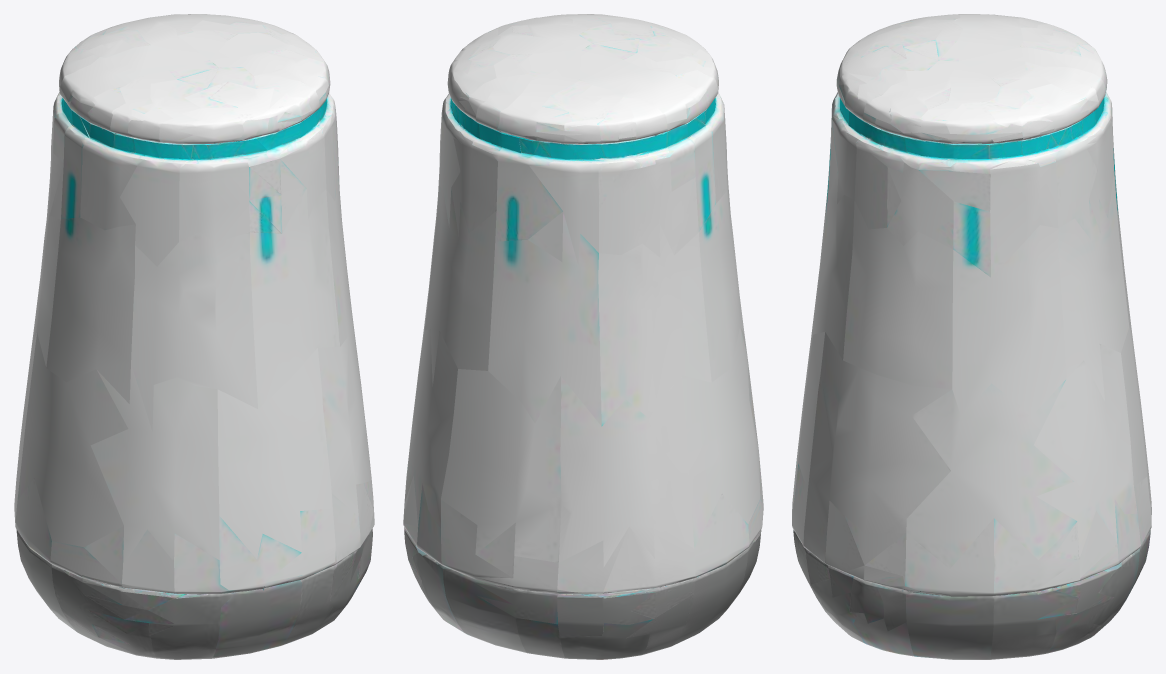
The picture shows the model from 3 angles, left to right: view 1: azimuth 30°, elevation 25°; view 2: azimuth 150°, elevation 25°; view 3: azimuth 270°, elevation 25°; orthographic projection.
Size of the model in its own units: 1.14 by 1.9 by 1.14.
1 material, 1 textured.
